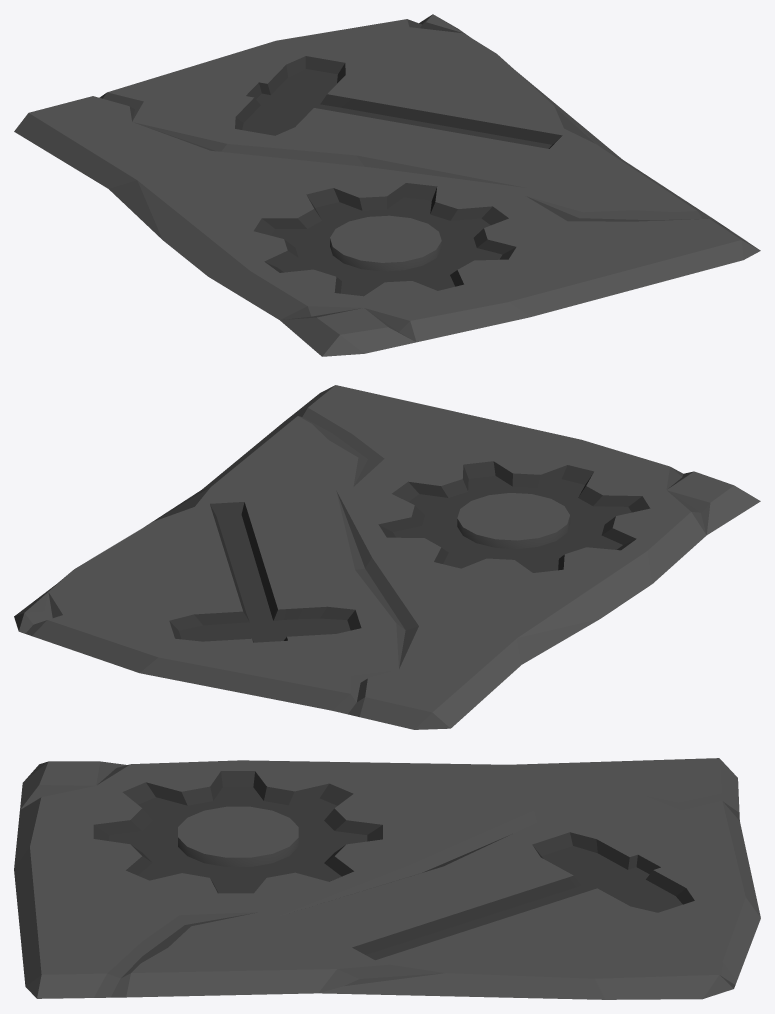
Rendered from gear_and_hammer_on_stone.fbx.
3 renders of one model, top to bottom at view 1: azimuth 30°, elevation 25°; view 2: azimuth 150°, elevation 25°; view 3: azimuth 270°, elevation 25°, orthographic. The views are drawn at different scales.
Visible parts, largest first — view 1: gear_and_hammer_on_stone; view 2: gear_and_hammer_on_stone; view 3: gear_and_hammer_on_stone.
Part boxes in pixels (bbox=[...]): gear_and_hammer_on_stone: bbox=[14, 14, 760, 356]; gear_and_hammer_on_stone: bbox=[14, 385, 760, 729]; gear_and_hammer_on_stone: bbox=[14, 758, 760, 999].
Bounding box in the file's own units: 83.53 × 5.62 × 111.
